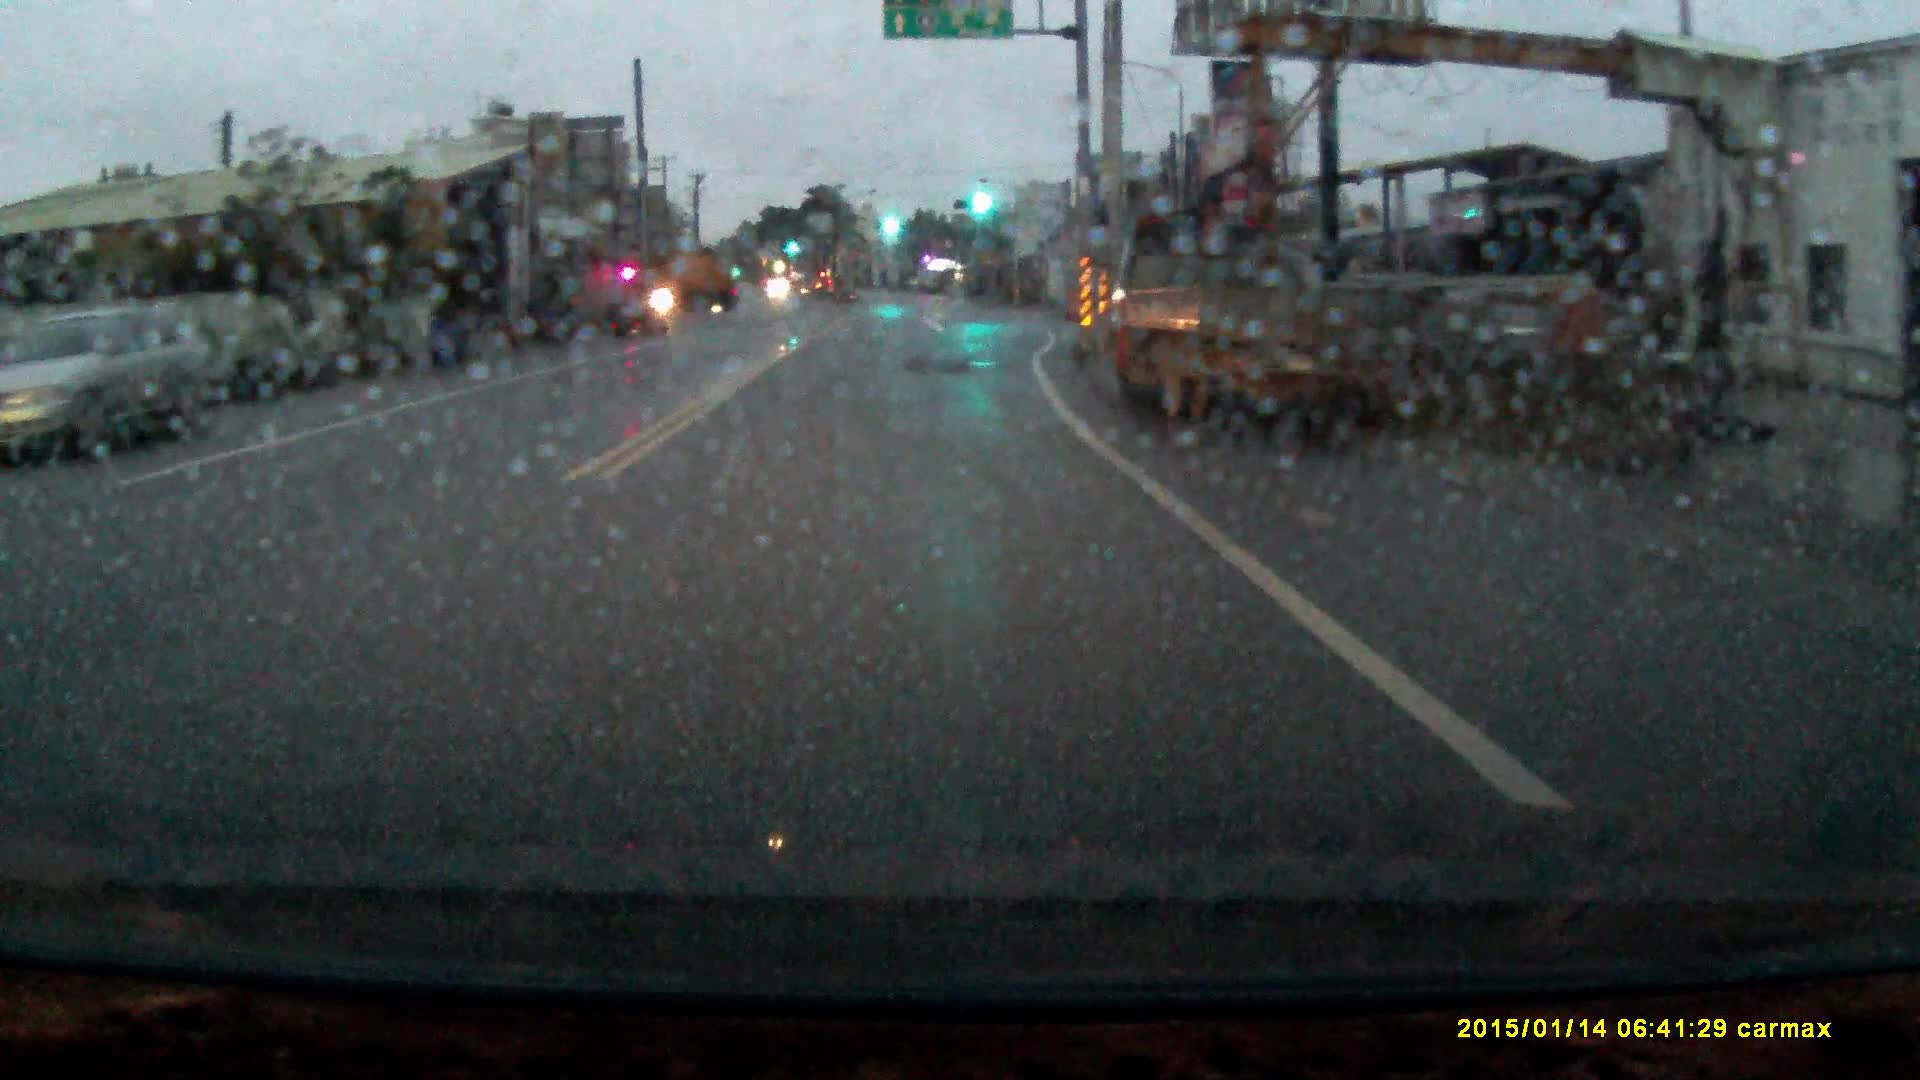vehicle: (1102, 220, 1433, 451), (12, 309, 216, 465), (651, 255, 742, 316)
